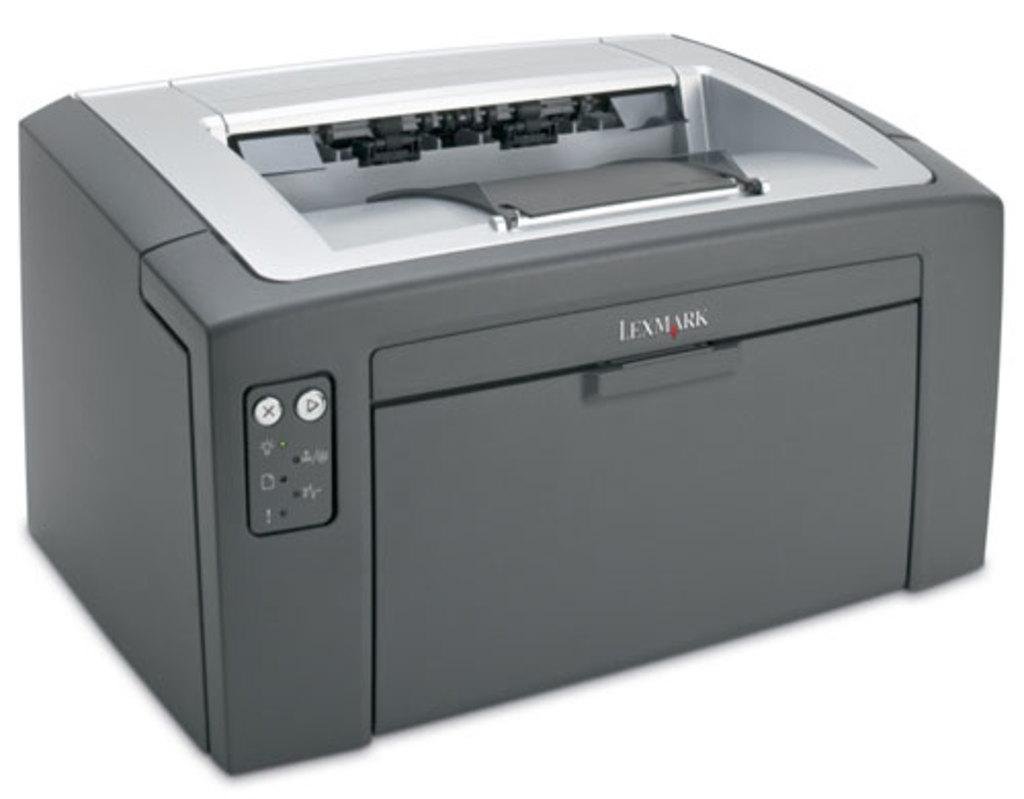Printer: (18, 32, 1003, 776)
